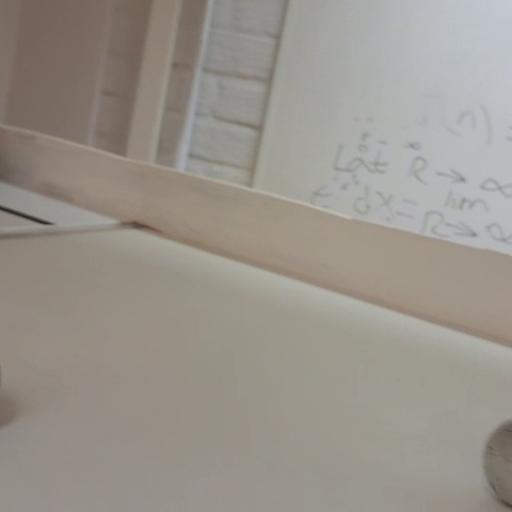alive: (484, 418, 512, 506)
